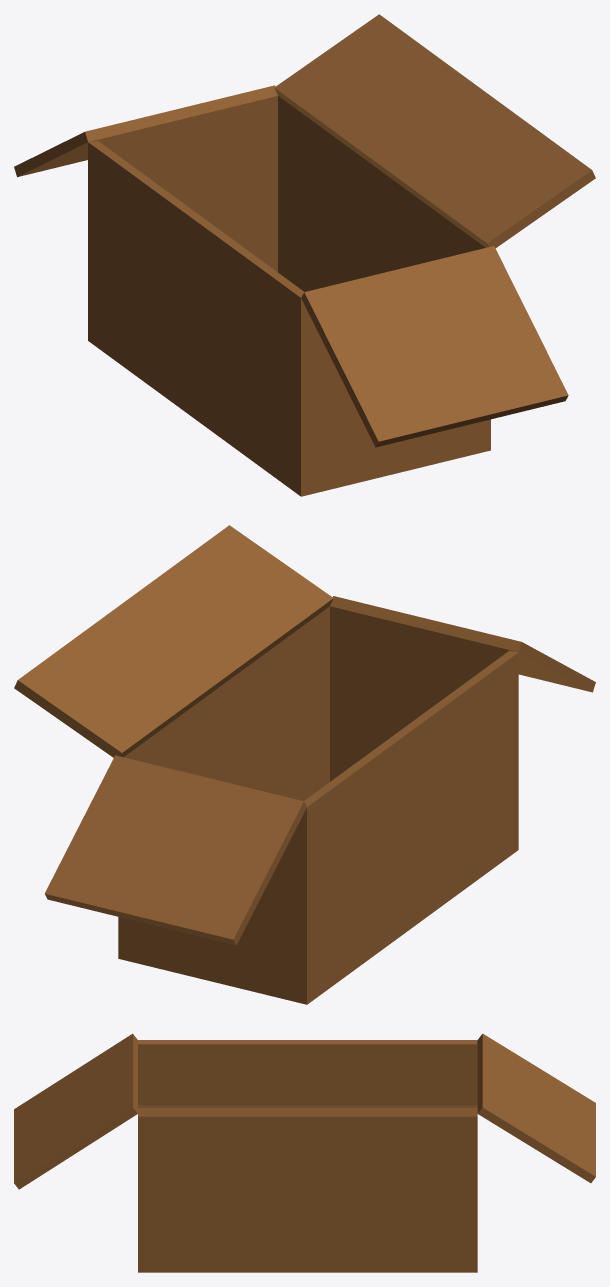
3 views of the same model, one above another, from view 1: azimuth 30°, elevation 25°; view 2: azimuth 150°, elevation 25°; view 3: azimuth 270°, elevation 25° (orthographic). The views are drawn at different scales.
Visible parts, largest first — view 1: Cube; view 2: Cube; view 3: Cube.
Boxes of the visible parts, bbox=[...] form: Cube: bbox=[14, 14, 595, 496]; Cube: bbox=[14, 525, 595, 1004]; Cube: bbox=[14, 1033, 595, 1272].
Size of the model in its own units: 310 by 257 by 665.
